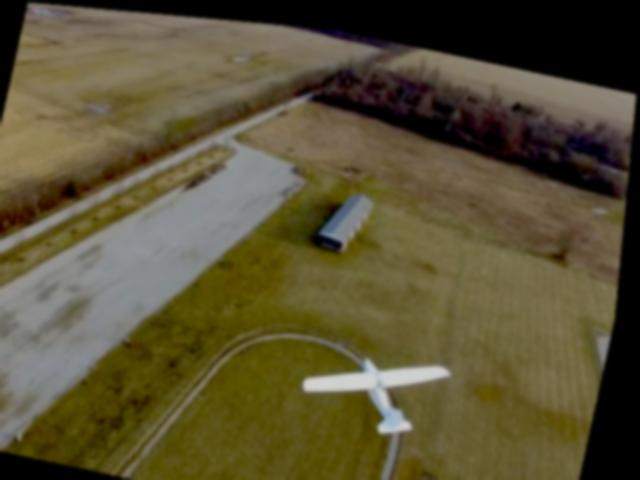uav: (291, 315, 470, 449)
